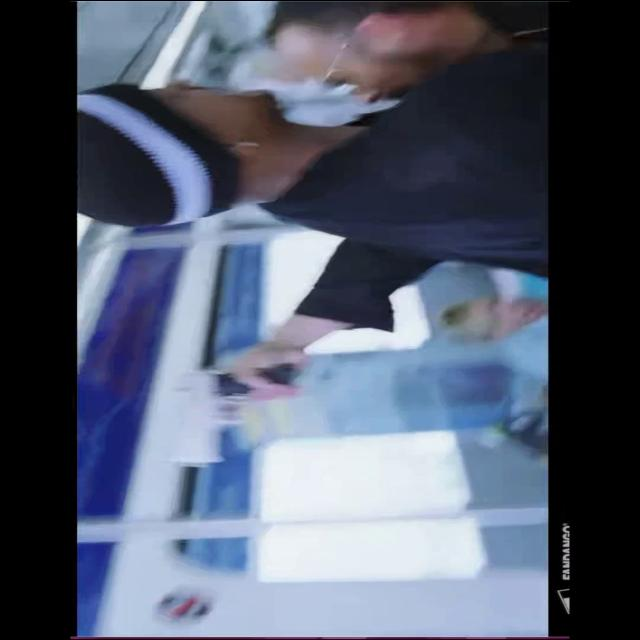weapons: (141, 352, 313, 476)
